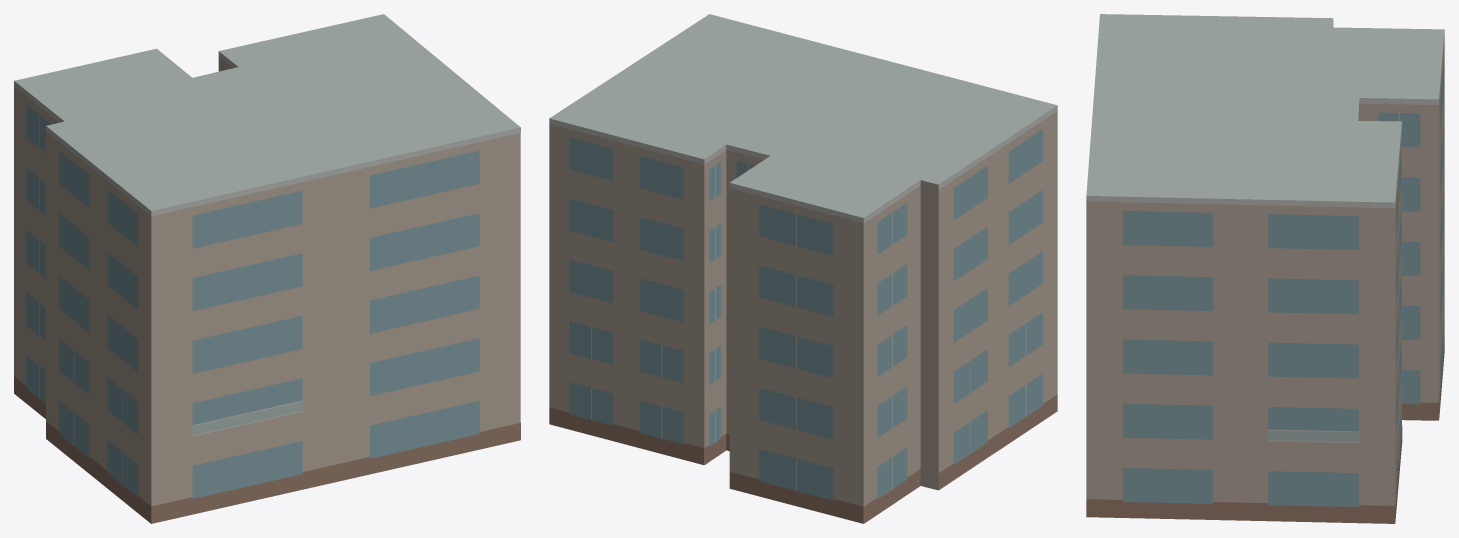
The model's file is survey-upis-32656716.glb.
3 views of the same model, side by side, from view 1: azimuth 30°, elevation 25°; view 2: azimuth 150°, elevation 25°; view 3: azimuth 270°, elevation 25° (orthographic). The views are drawn at different scales.
Visible parts, largest first — view 1: survey-upis-32656716.tmp; view 2: survey-upis-32656716.tmp; view 3: survey-upis-32656716.tmp.
Part boxes in pixels (x1,y1,x2,y2): survey-upis-32656716.tmp: (14, 14, 520, 523); survey-upis-32656716.tmp: (549, 14, 1057, 523); survey-upis-32656716.tmp: (1086, 14, 1444, 523).
Size of the model in its own units: 17.64 by 14 by 14.16.
